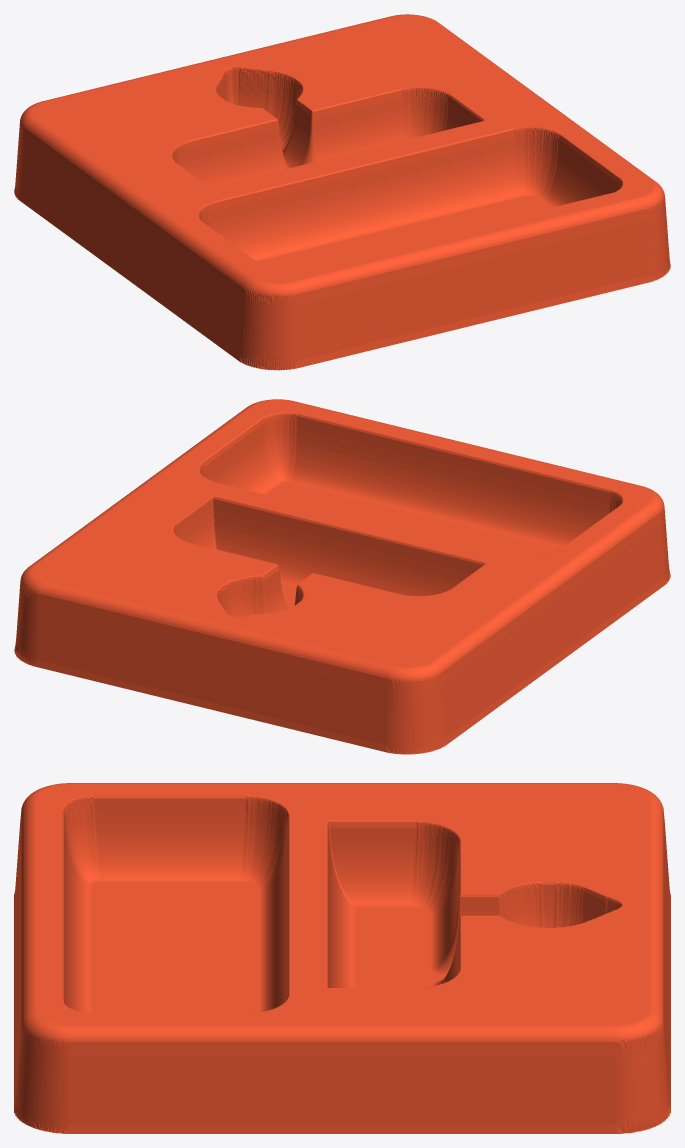
File: mold.glb
The picture shows the model from 3 angles, top to bottom: view 1: azimuth 30°, elevation 25°; view 2: azimuth 150°, elevation 25°; view 3: azimuth 270°, elevation 25°; orthographic projection. The views are drawn at different scales.
Parts seen in each view (by area): view 1: geometry_0; view 2: geometry_0; view 3: geometry_0.
Part boxes in pixels (x1,y1,x2,y2): geometry_0: (14,14,670,370); geometry_0: (14,399,670,754); geometry_0: (14,783,670,1133).
Size of the model in its own units: 0.0982 by 0.0175 by 0.105.
